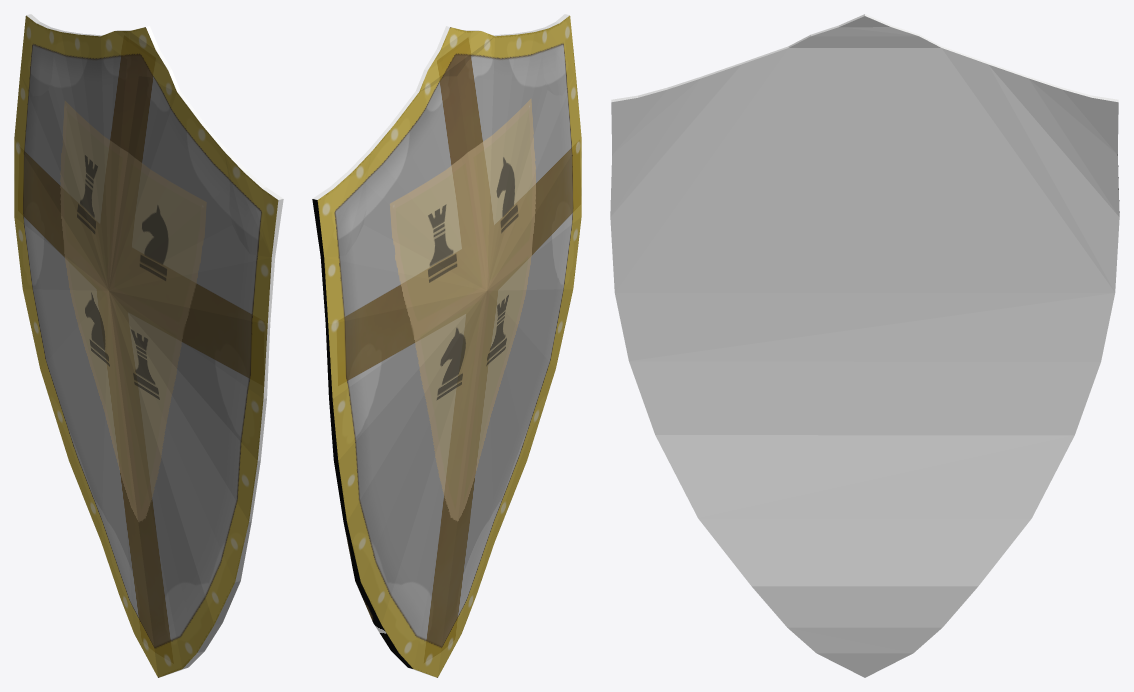
The model's file is CrusaderShieldGhosted.fbx.
The picture shows the model from 3 angles, left to right: view 1: azimuth 30°, elevation 25°; view 2: azimuth 150°, elevation 25°; view 3: azimuth 270°, elevation 25°; orthographic projection.
Visible parts, largest first — view 1: Shield; view 2: Shield; view 3: Shield.
Part boxes in pixels (left/top/right/bottom): Shield: left=14, top=14, right=283, bottom=677; Shield: left=312, top=14, right=581, bottom=677; Shield: left=610, top=14, right=1119, bottom=677.
Bounding box in the file's own units: 17.81 × 194 × 136.
